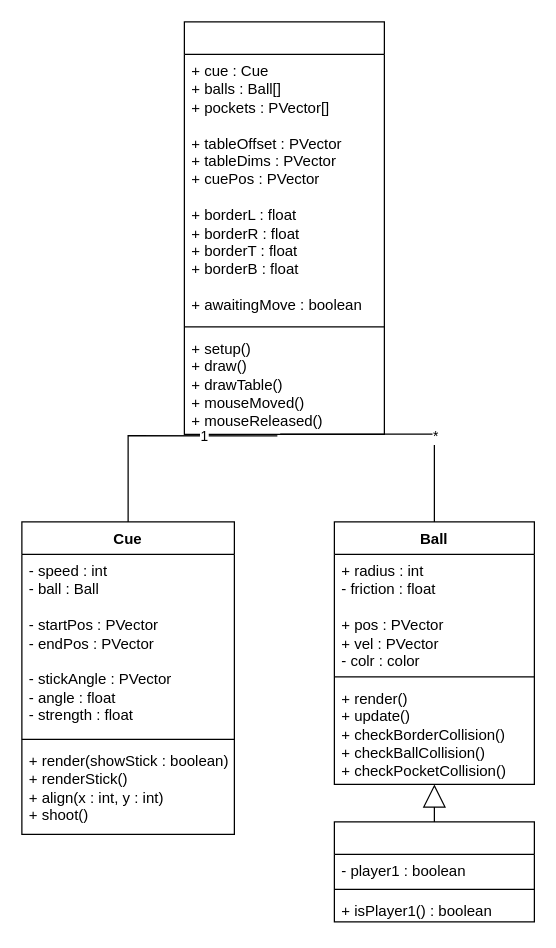
Image size: 556x948. Some labels were removed from this diagram. Here are the shapes that lost their labels. From the top down, the box of each, then its label:
(183, 21, 384, 434): Game
(333, 821, 534, 922): ObjectBall
